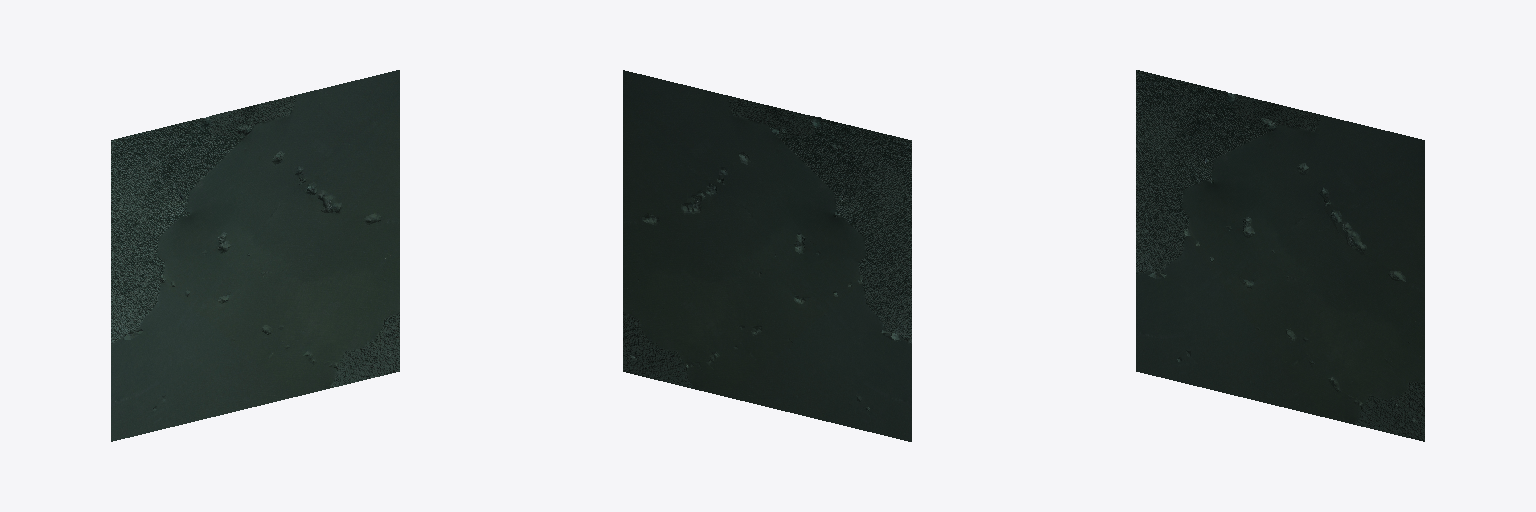
3 renders of one model, left to right at view 1: azimuth 30°, elevation 25°; view 2: azimuth 150°, elevation 25°; view 3: azimuth 330°, elevation 25°, orthographic.
Bounding box in the file's own units: 252 × 252 × 9.28.
2 materials, 1 textured.